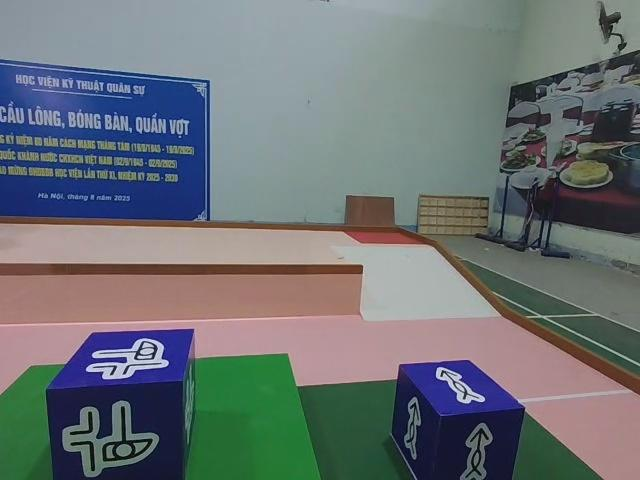R2 Real Blue: (47, 329, 199, 480), (390, 359, 526, 480)
